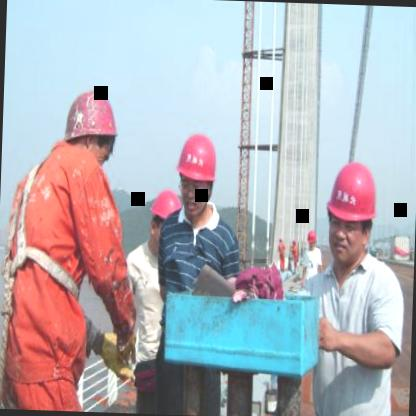helmet: (325, 158, 379, 266), (66, 86, 119, 176), (173, 126, 221, 224), (144, 190, 178, 258), (306, 228, 320, 252)
